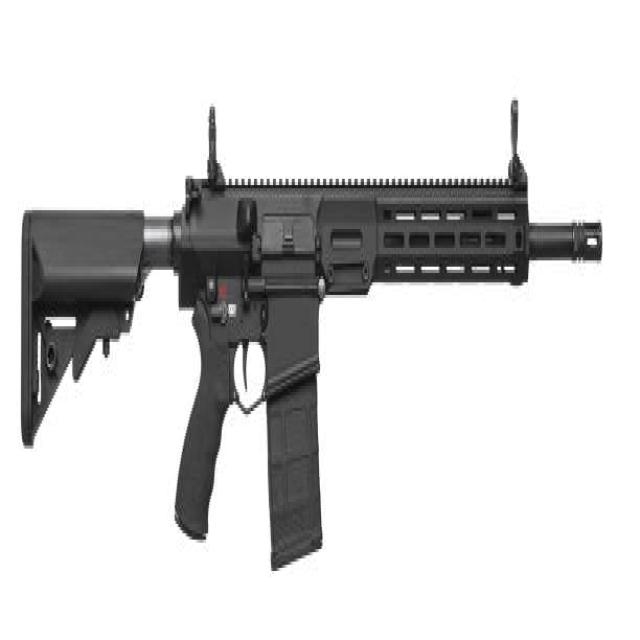rifle: (17, 102, 605, 583)
